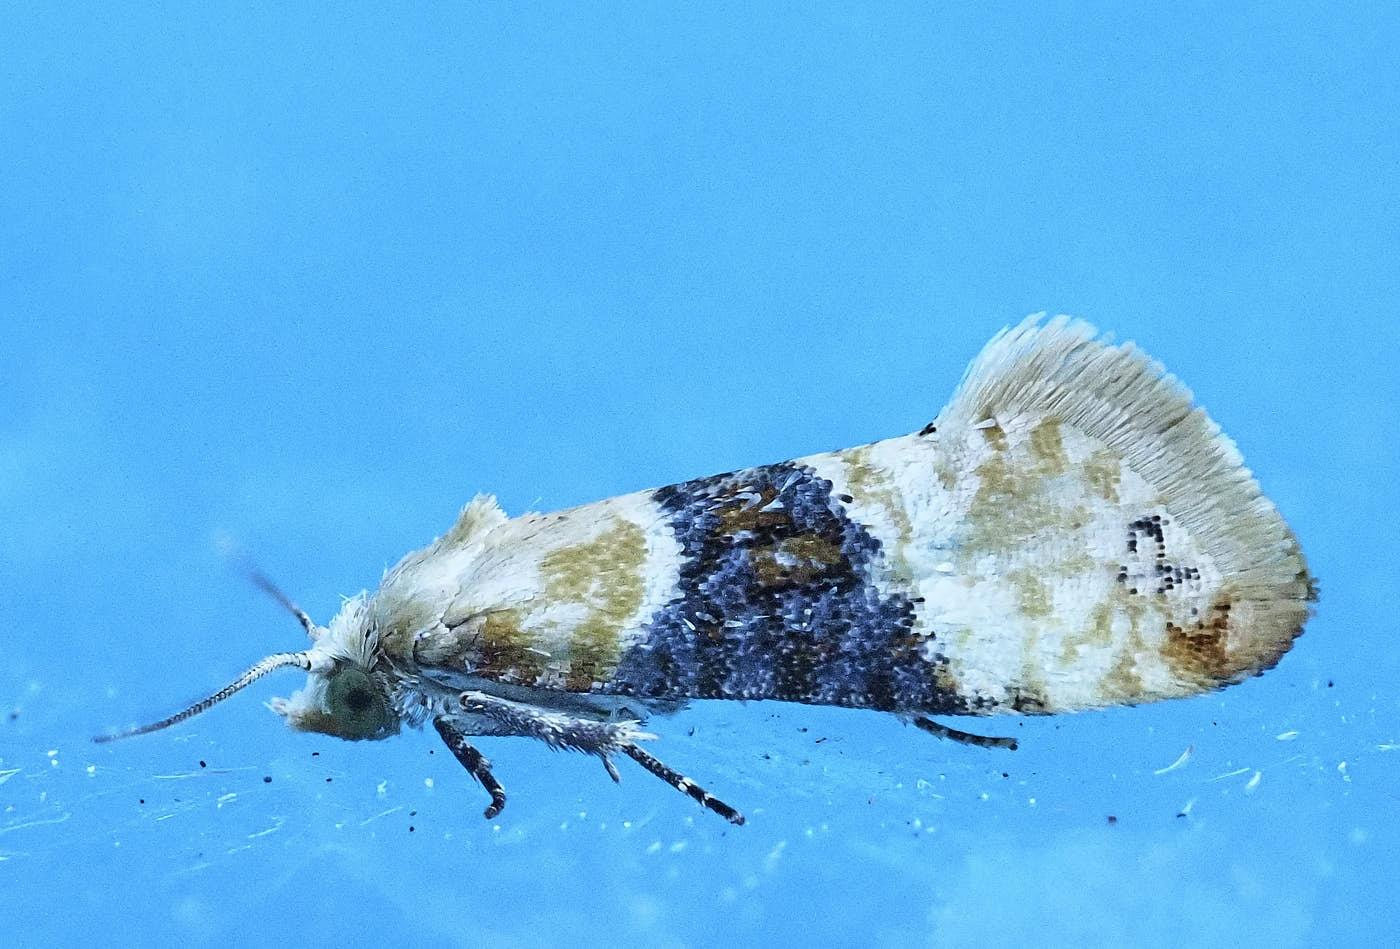Eupoecilia Ambiguella: (90, 307, 1322, 830)
